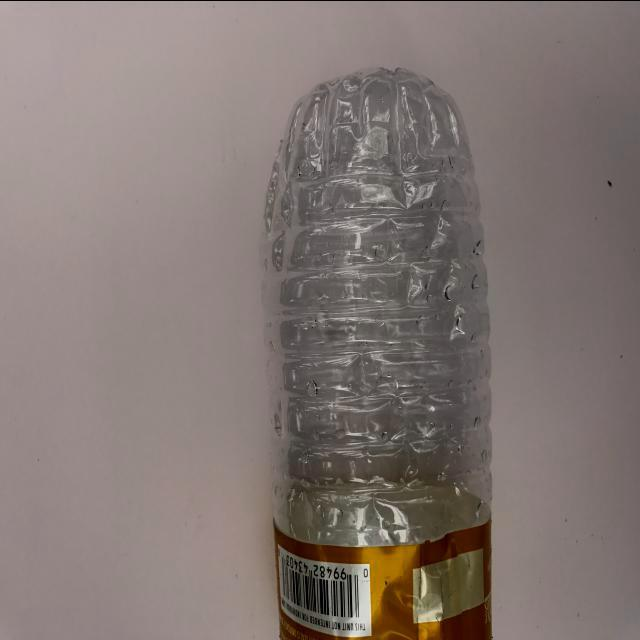plastic: (226, 51, 537, 640)
